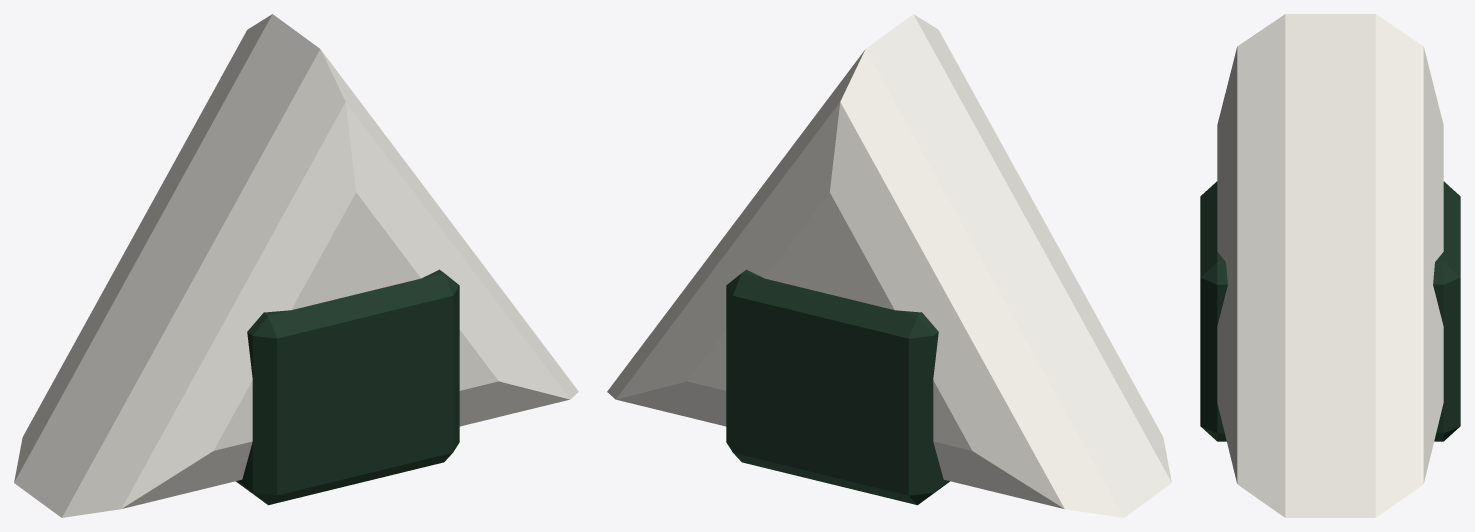
Rendered from RiceBall.fbx.
3 renders of one model, left to right at view 1: azimuth 30°, elevation 25°; view 2: azimuth 150°, elevation 25°; view 3: azimuth 270°, elevation 25°, orthographic. The views are drawn at different scales.
Visible parts, largest first — view 1: RiceBall; view 2: RiceBall; view 3: RiceBall.
Boxes of the visible parts, bbox=[...] form: RiceBall: bbox=[14, 14, 578, 517]; RiceBall: bbox=[607, 14, 1171, 517]; RiceBall: bbox=[1200, 14, 1460, 517].
Bounding box in the file's own units: 1 × 0.755 × 0.46.
1 material, 1 textured.
